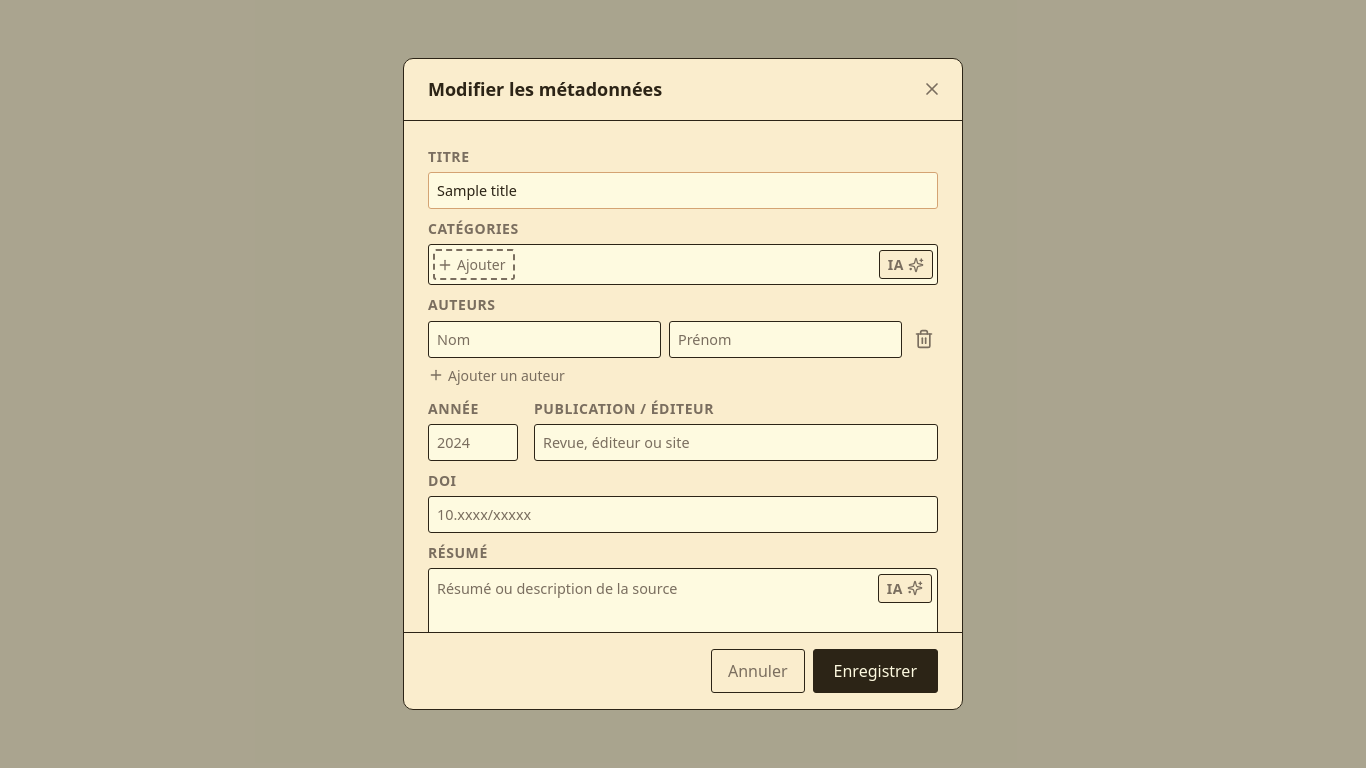
Scenario: MetadataModal — handleGenerateAbstract › IA categories: refuses to run when no abstract is available yet
Click the button with aria-label "générer des catégories avec l’IA" at (906, 265), box [879, 250, 933, 280]
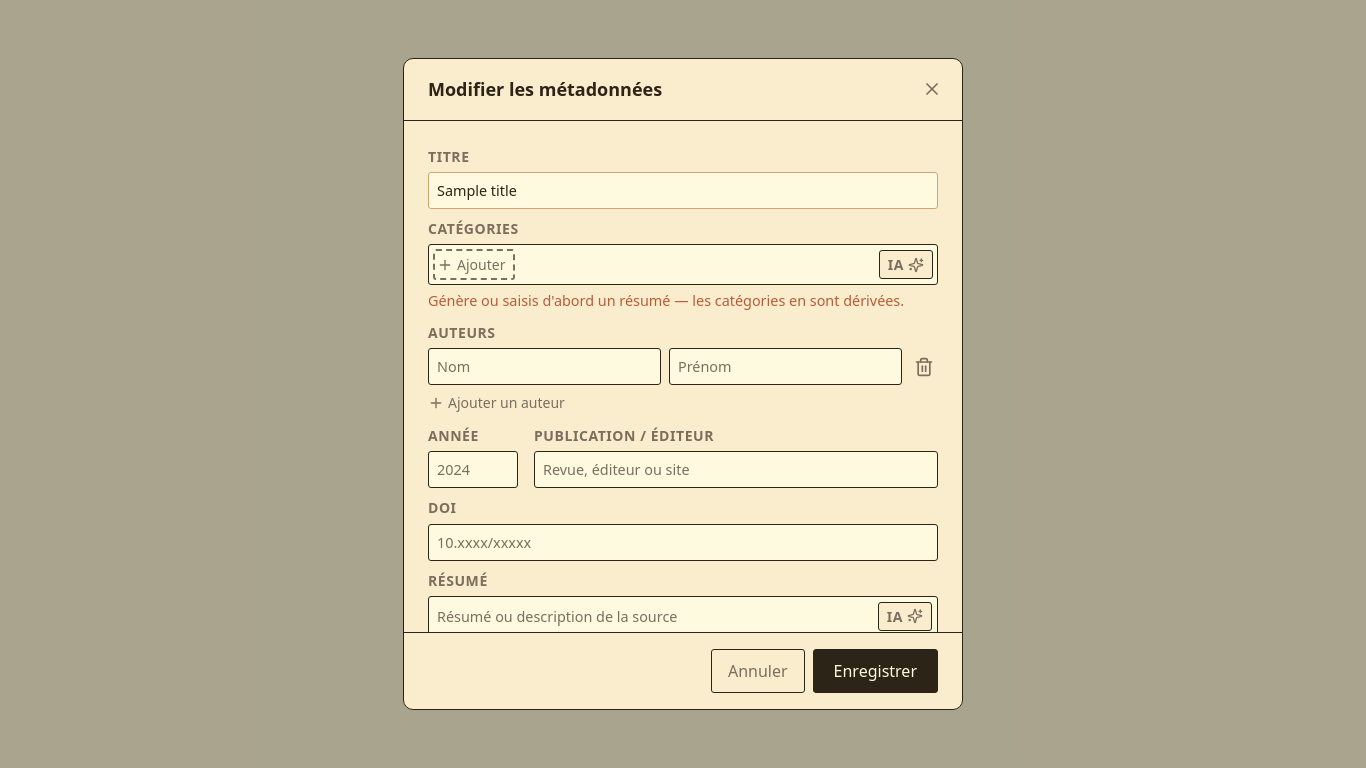
Check: the text "d'abord un résumé" is shown, box [428, 292, 904, 310]
